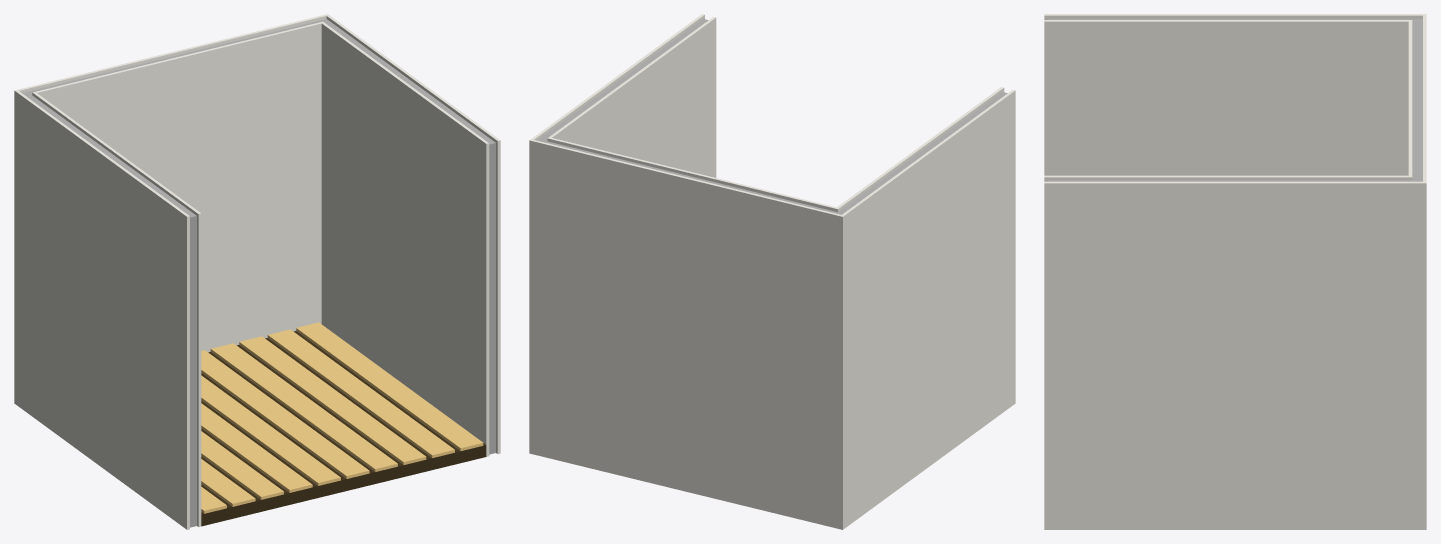
File: room.glb
3 renders of one model, left to right at view 1: azimuth 30°, elevation 25°; view 2: azimuth 150°, elevation 25°; view 3: azimuth 270°, elevation 25°, orthographic. The views are drawn at different scales.
Visible parts, largest first — view 1: sharing-room.001; view 2: sharing-room.001; view 3: sharing-room.001.
Boxes of the visible parts, bbox=[...] form: sharing-room.001: bbox=[14, 14, 500, 529]; sharing-room.001: bbox=[529, 14, 1015, 529]; sharing-room.001: bbox=[1044, 14, 1426, 529].
Size of the model in its own units: 11 by 10.5 by 10.5.
1 material, 1 textured.
